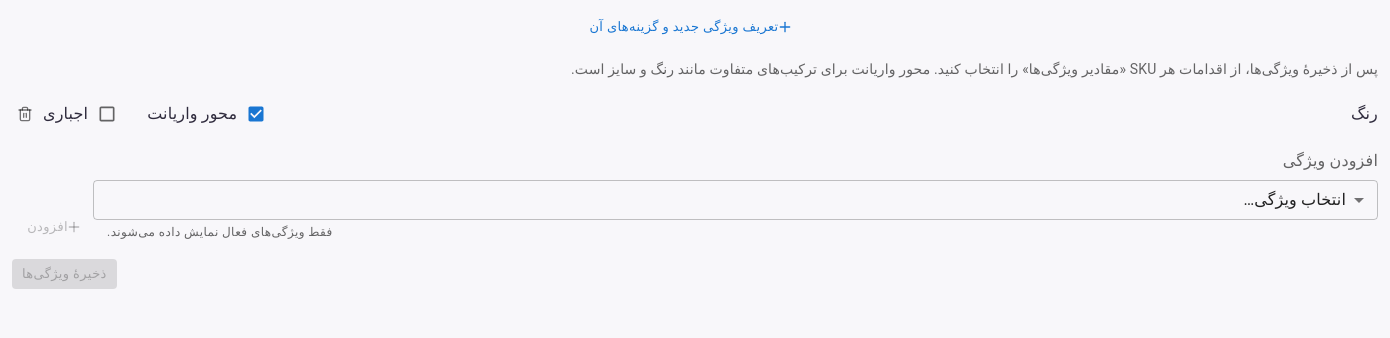
Test case: AttributeConfigEditor › renders the configured attributes and hides disabled candidates
The image size is (1390, 338).
Check: the text "رنگ" is shown, box top-left (1351, 104), bottom-right (1378, 123)
Press the mouse on the dropdown named "افزودن ویژگی" at (1295, 200), box top-left (1243, 190), bottom-right (1346, 209)
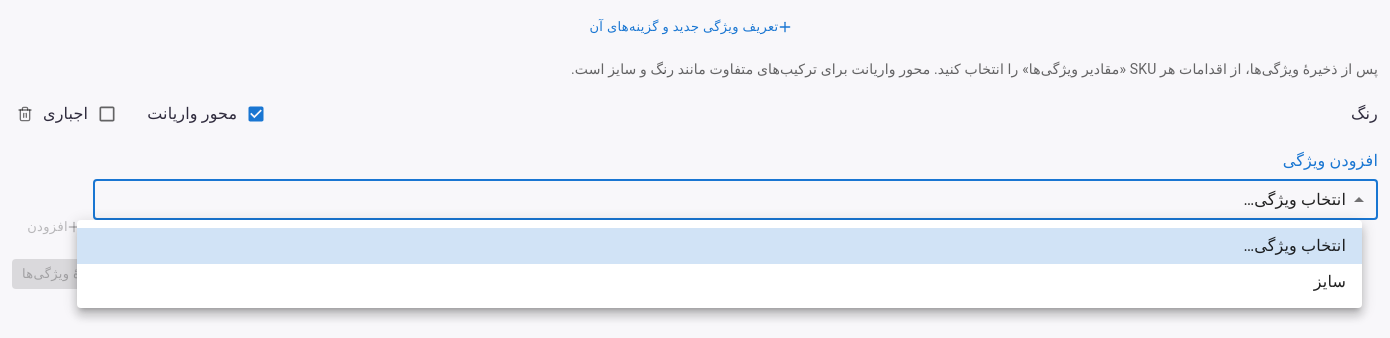
Check: the option "سایز" is shown, box top-left (1314, 272), bottom-right (1346, 291)
